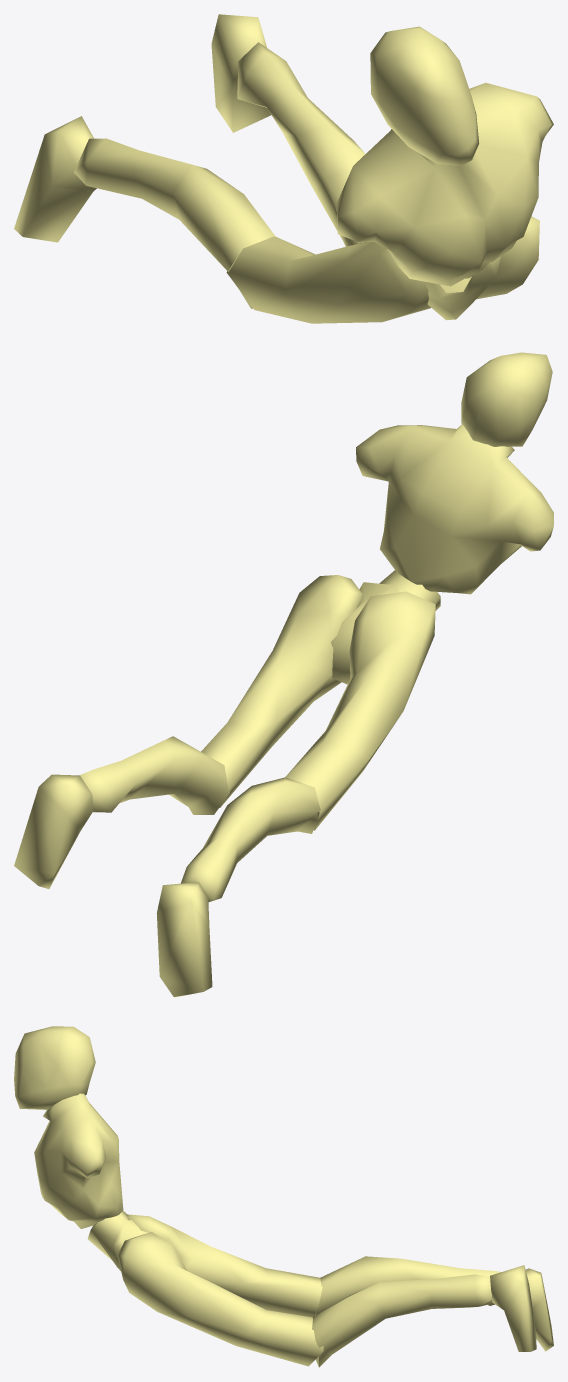
Rendered from filth30.obj.
3 renders of one model, top to bottom at view 1: azimuth 30°, elevation 25°; view 2: azimuth 150°, elevation 25°; view 3: azimuth 270°, elevation 25°, orthographic. The views are drawn at different scales.
Parts seen in each view (by area): view 1: Melee_Husk; view 2: Melee_Husk; view 3: Melee_Husk.
Boxes of the visible parts, x1=… form: Melee_Husk: x1=14, y1=14, x2=553, y2=323; Melee_Husk: x1=14, y1=352, x2=553, y2=997; Melee_Husk: x1=14, y1=1026, x2=553, y2=1367.
Bounding box in the file's own units: 26.3 × 42.9 × 66.41.
